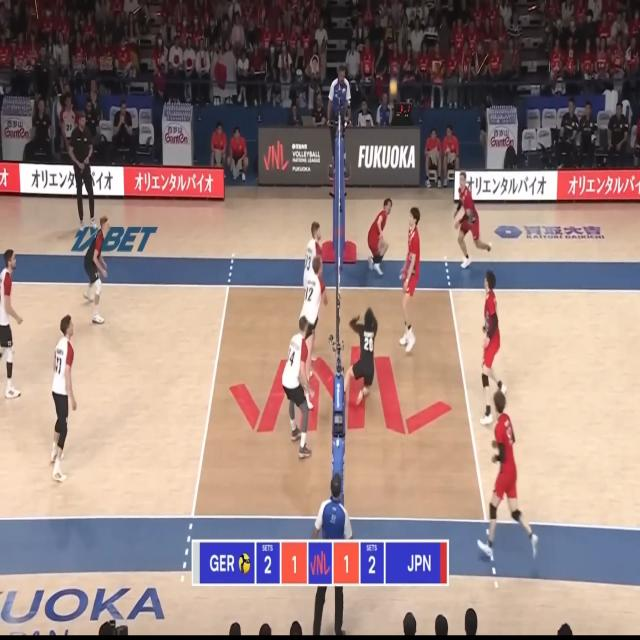ball: (390, 80, 397, 94)
